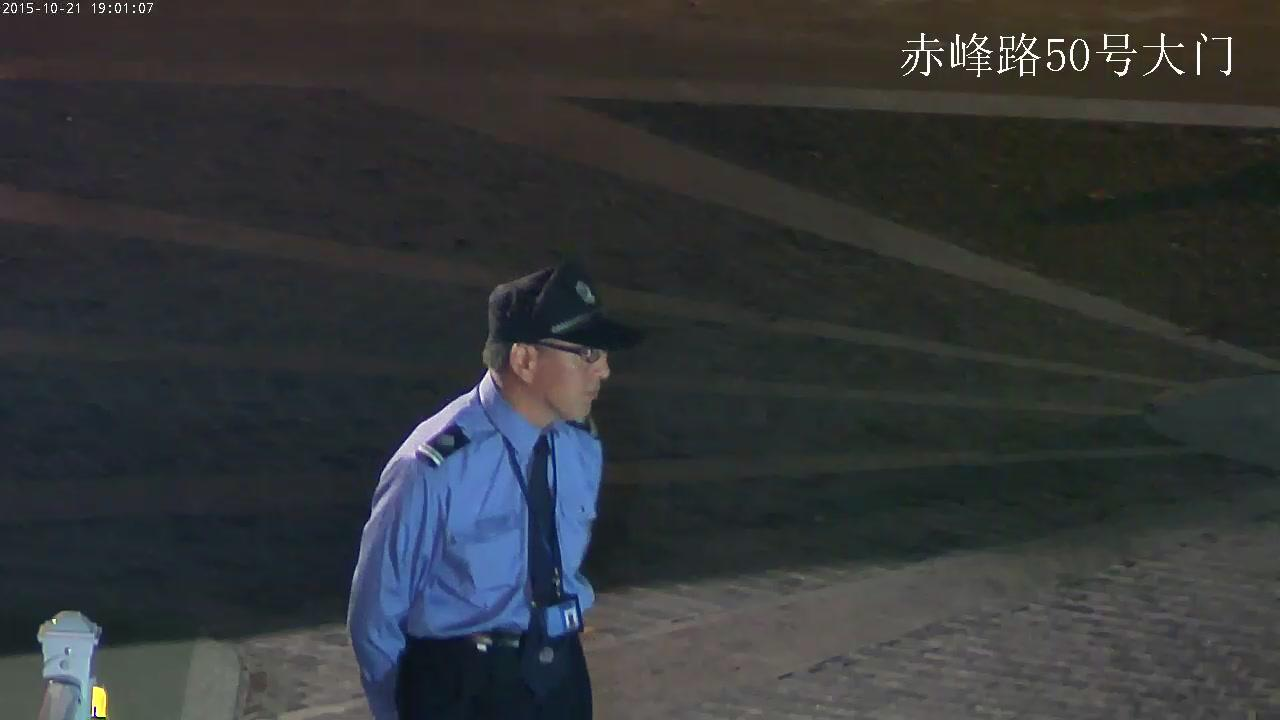face: (535, 332, 609, 420)
